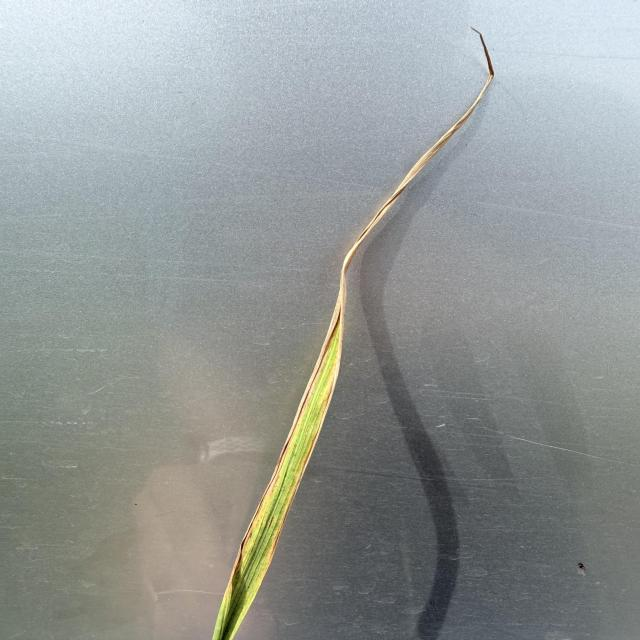Chay bia la: (224, 25, 495, 599)
